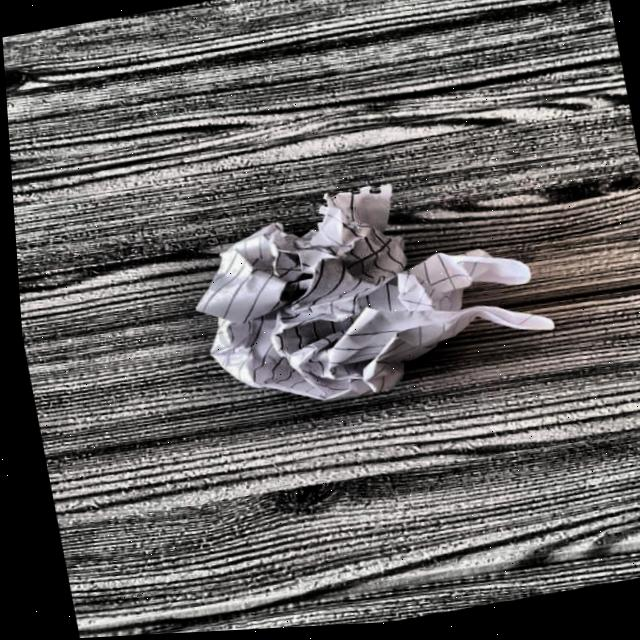paper: (174, 173, 551, 419)
